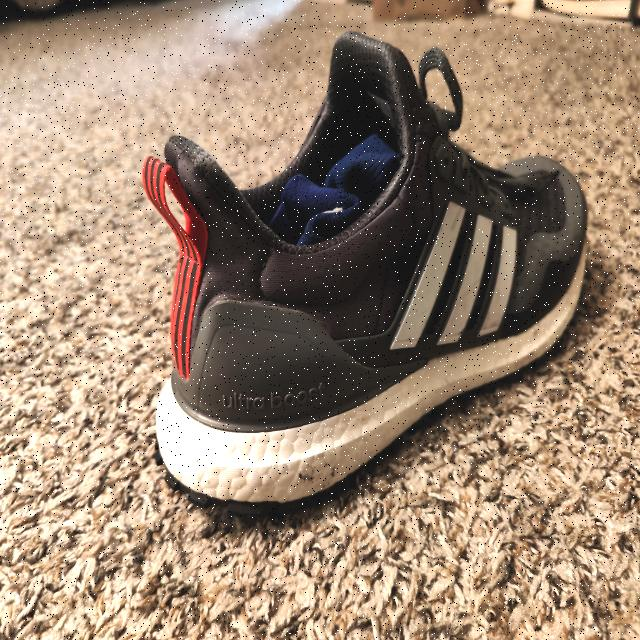black shoes: (140, 127, 592, 505)
